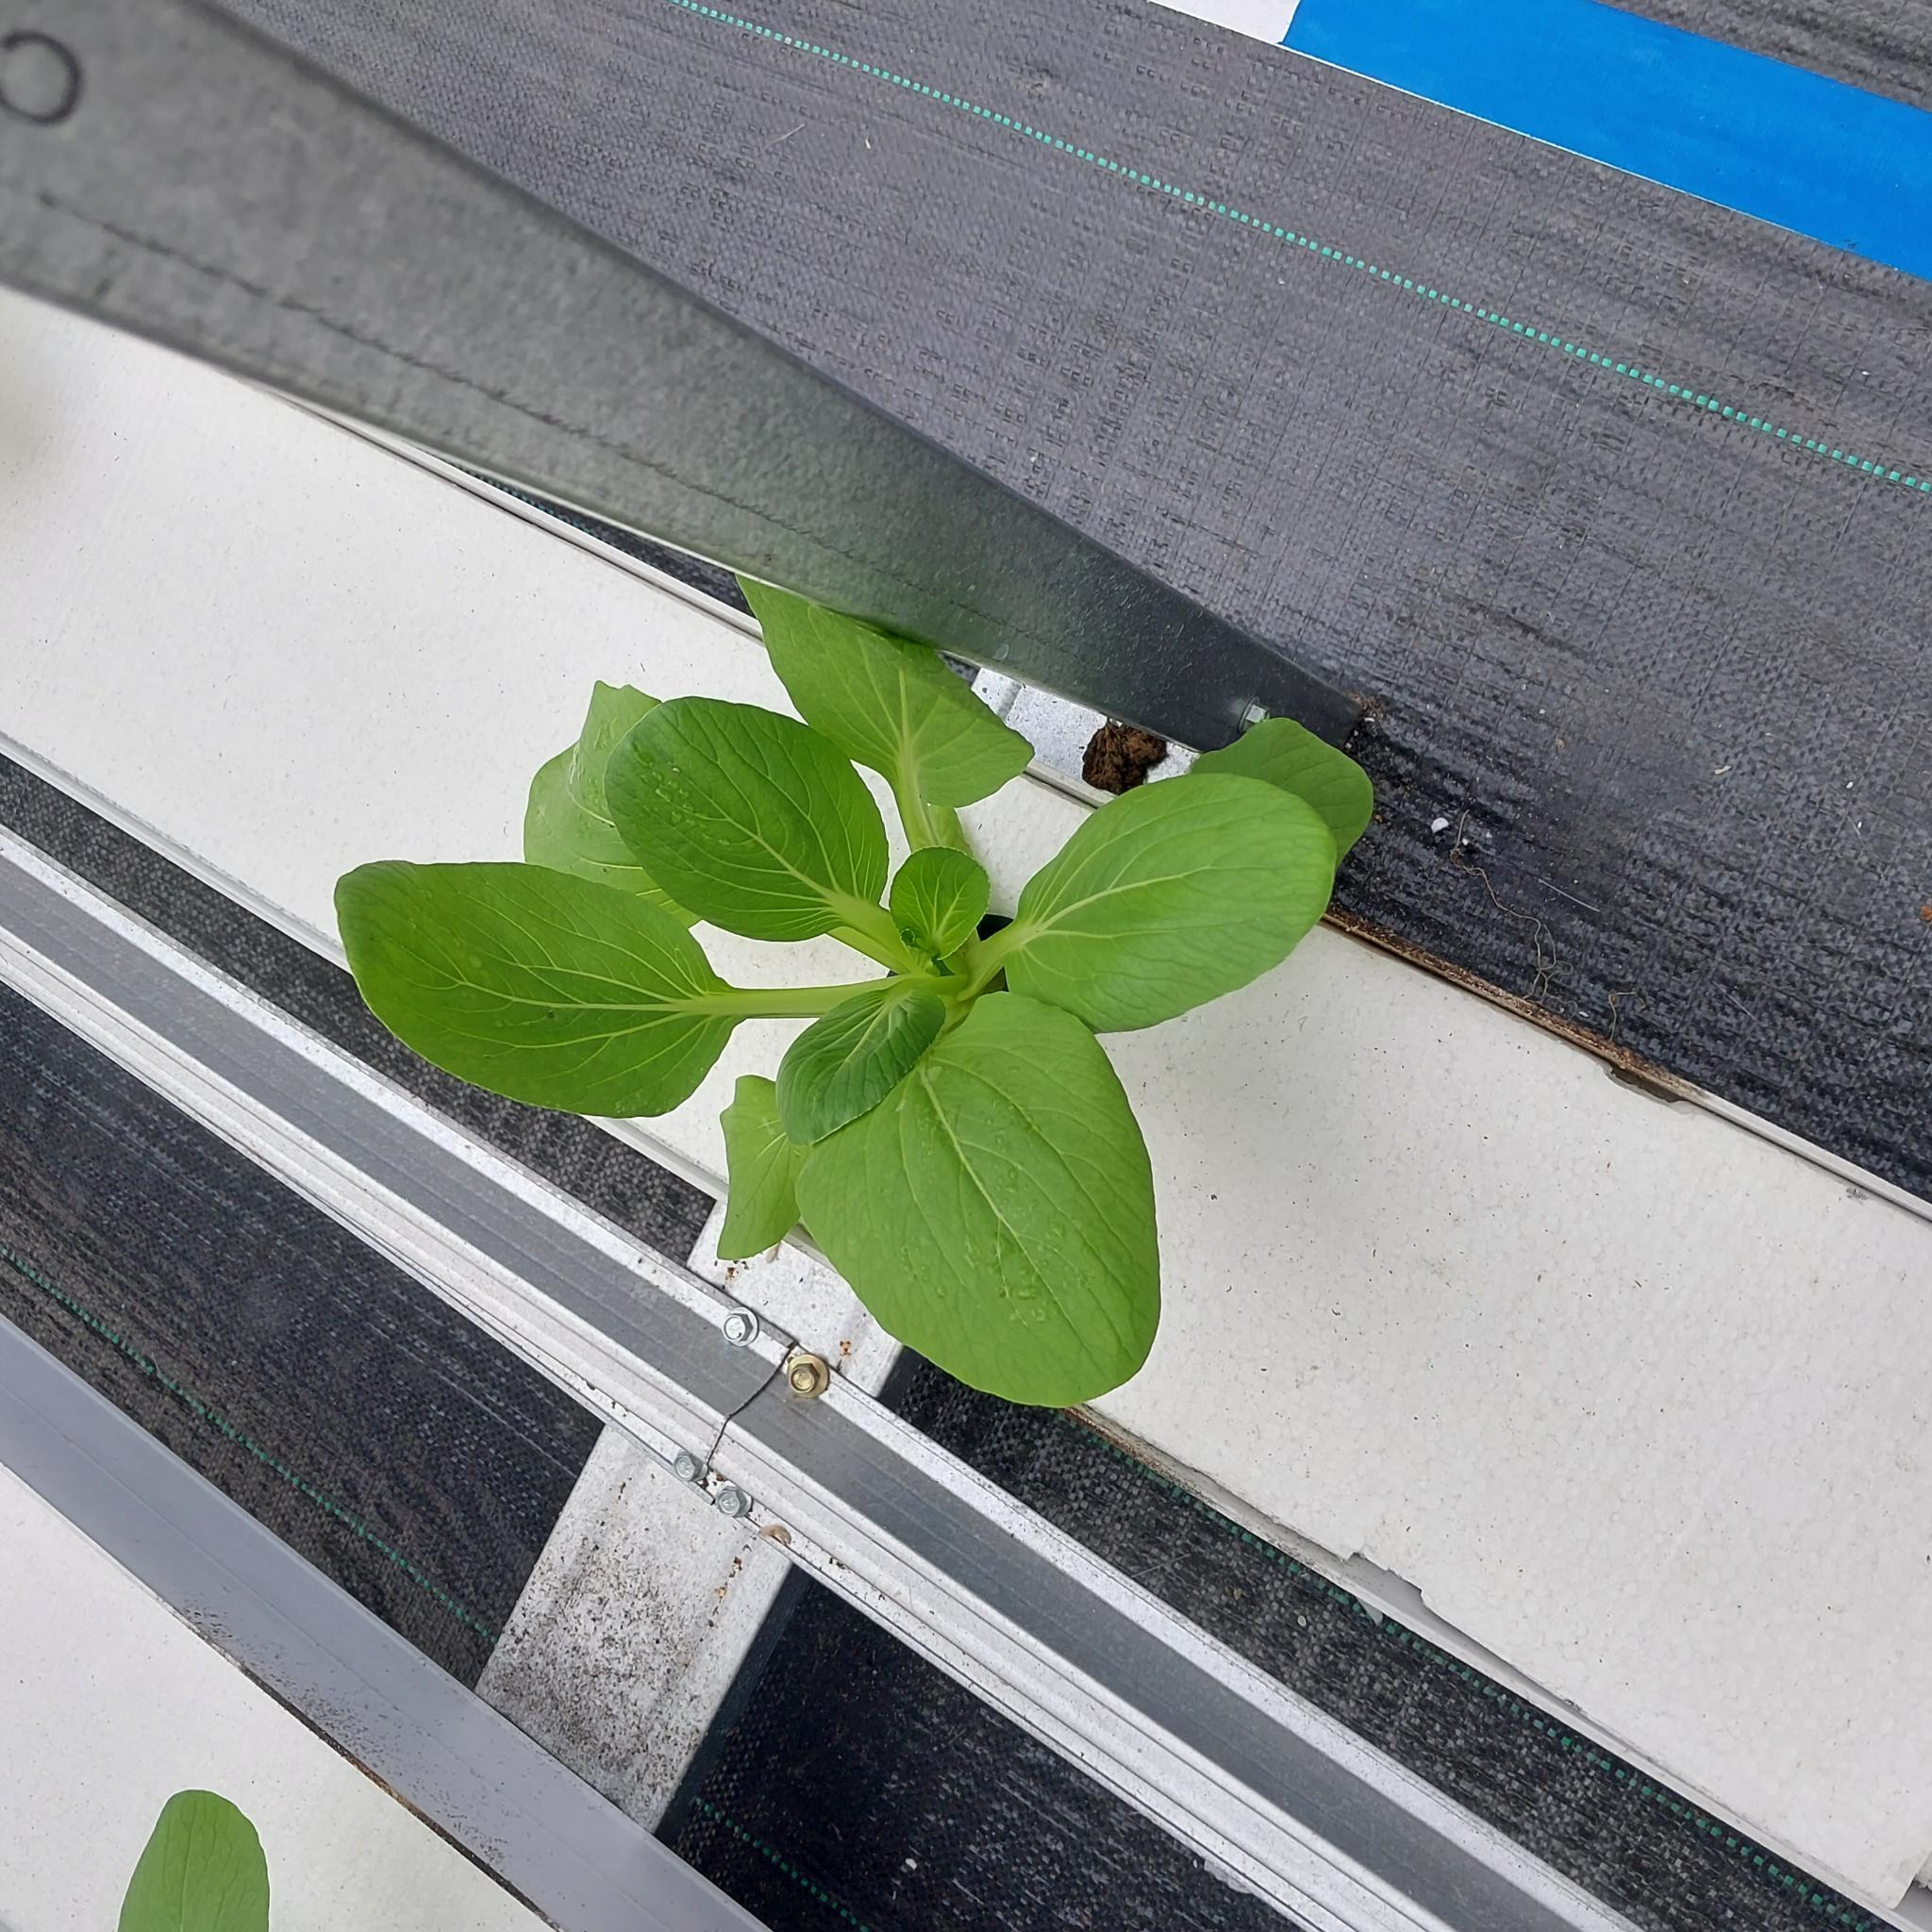Healthy-Pechay: (817, 1010, 1148, 1405), (331, 858, 770, 1116), (991, 766, 1338, 1026), (731, 575, 1031, 844), (598, 694, 904, 938), (524, 679, 702, 888), (777, 973, 950, 1139), (1187, 717, 1376, 869), (1008, 858, 1223, 964), (711, 1076, 807, 1267)
